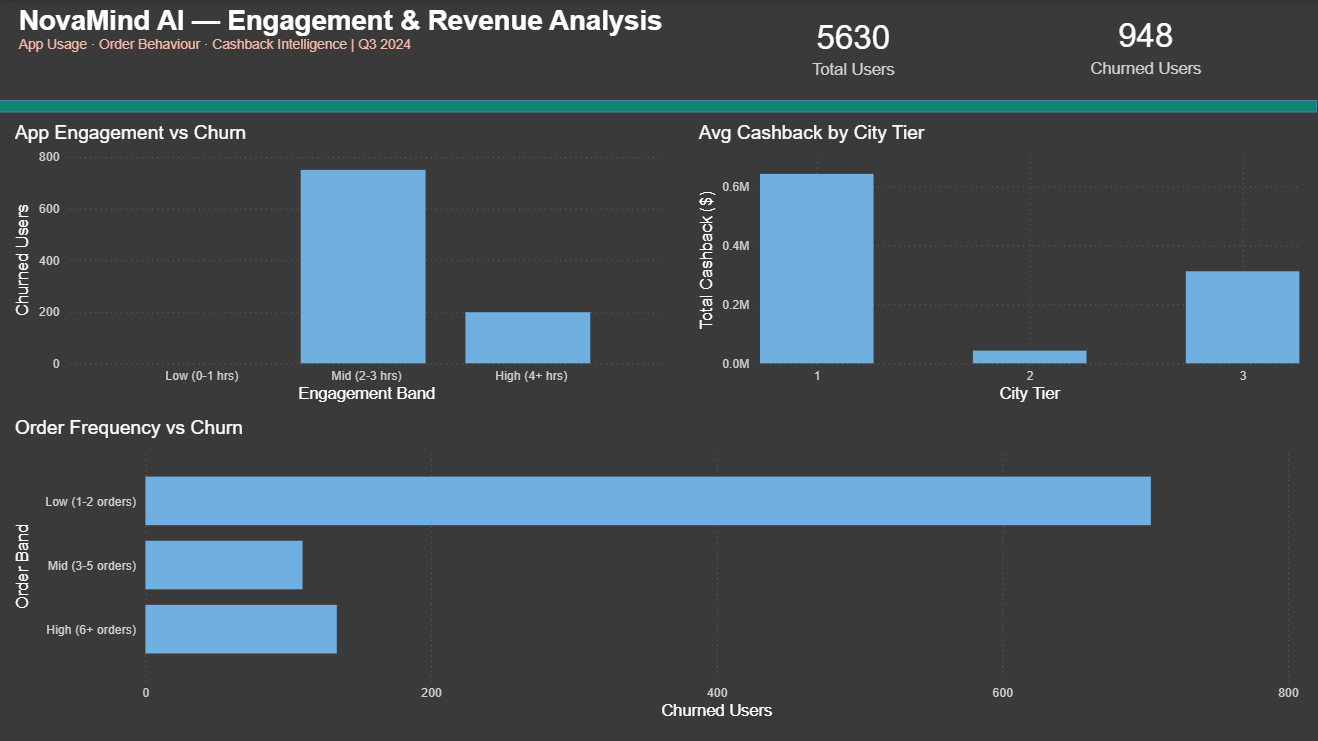

The dashboard page shown, as its layout file describes it:
{"tool":"powerbi","page":{"name":"Engagement & Revenue","canvas":[1280,720],"ordinal":1},"visuals":[{"type":"clusteredColumnChart","title":"App Engagement vs Churn","fields":{"Y":["novamind_users_clean.Churned Users"],"Category":["novamind_users_clean.Engagement Band"]},"box":[13.3,117.4,637.9,277.2],"z":0},{"type":"clusteredBarChart","title":"Order Frequency vs Churn","fields":{"Y":["novamind_users_clean.Churned Users"],"Category":["novamind_users_clean.Order Band"]},"box":[13.3,403.1,1254.1,299],"z":1000},{"type":"clusteredColumnChart","title":"Avg Cashback by City Tier","fields":{"Category":["novamind_users_clean.citytier"],"Y":["Sum(novamind_users_clean.cashbackamount)"]},"box":[675.5,117.4,591.9,277.2],"z":2000},{"type":"textbox","box":[13.3,0,637.9,85.9],"z":3000},{"type":"shape","box":[0,96.8,1279.5,12.1],"z":4000},{"type":"card","fields":{"Values":["novamind_users_clean.Total Users"]},"box":[675.5,1.2,309.9,85.9],"z":4001},{"type":"card","fields":{"Values":["novamind_users_clean.Churned Users"]},"box":[959.9,0,307.5,85.9],"z":4002}]}

Visuals, with their boxes in screenshot pixels (x1, y1, x2, y2), scaled from the page's 1280x720 canvas onto the 1318x741 screenshot:
"App Engagement vs Churn" clusteredColumnChart: 14, 121, 671, 406
"Order Frequency vs Churn" clusteredBarChart: 14, 415, 1305, 723
"Avg Cashback by City Tier" clusteredColumnChart: 696, 121, 1305, 406
textbox: 14, 0, 671, 88
shape: 0, 100, 1317, 112
card - novamind_users_clean.Total Users: 696, 1, 1015, 90
card - novamind_users_clean.Churned Users: 988, 0, 1305, 88
